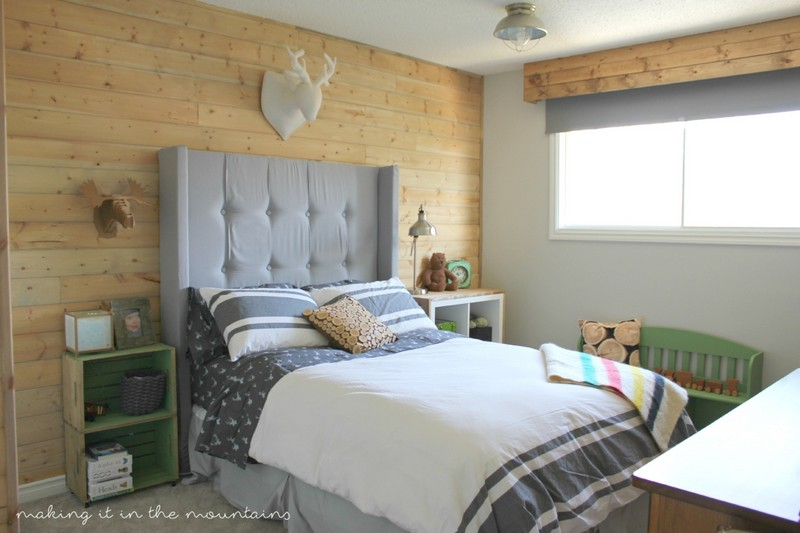bed: (160, 142, 674, 529)
chair: (577, 318, 770, 412)
door: (408, 205, 438, 299)
stool: (57, 343, 184, 506)
table: (633, 369, 800, 528)
